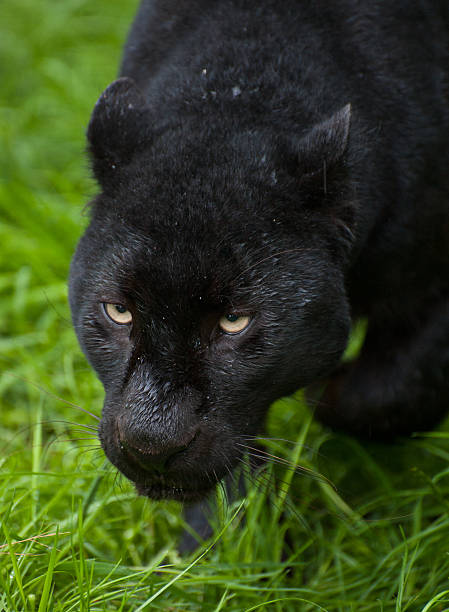panther: (43, 66, 395, 520)
